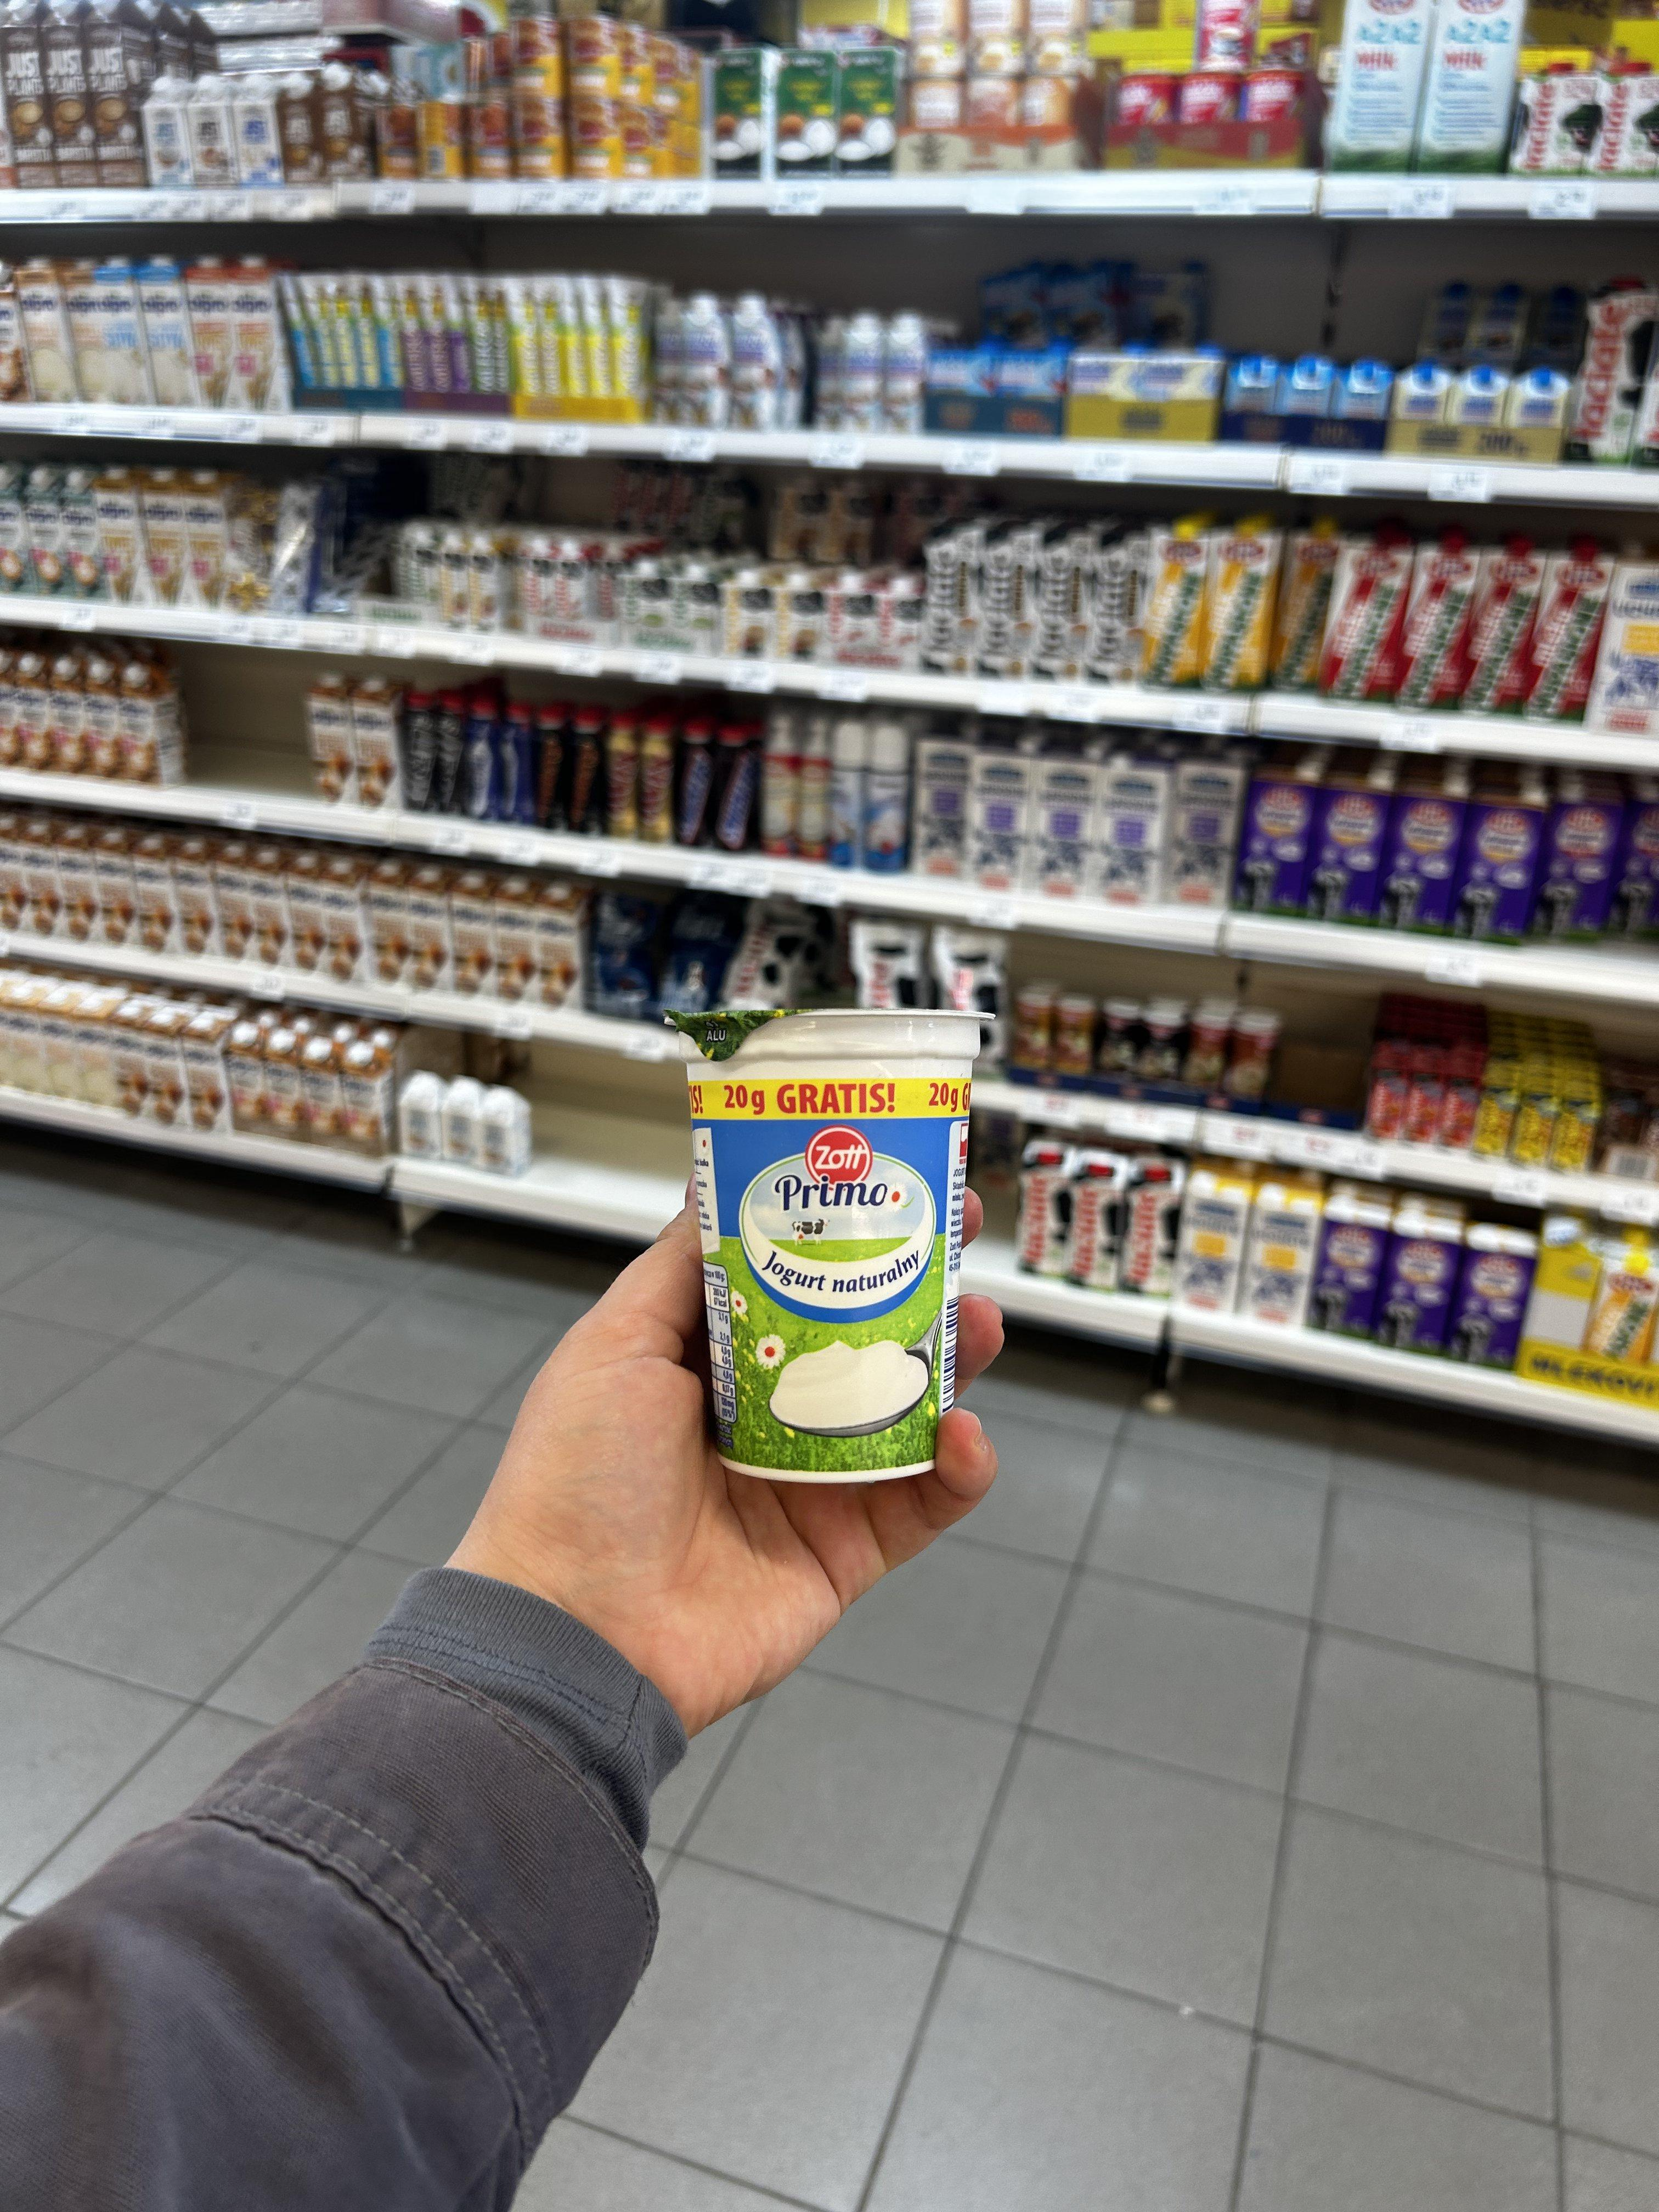Yogurt: (653, 981, 986, 1510)
